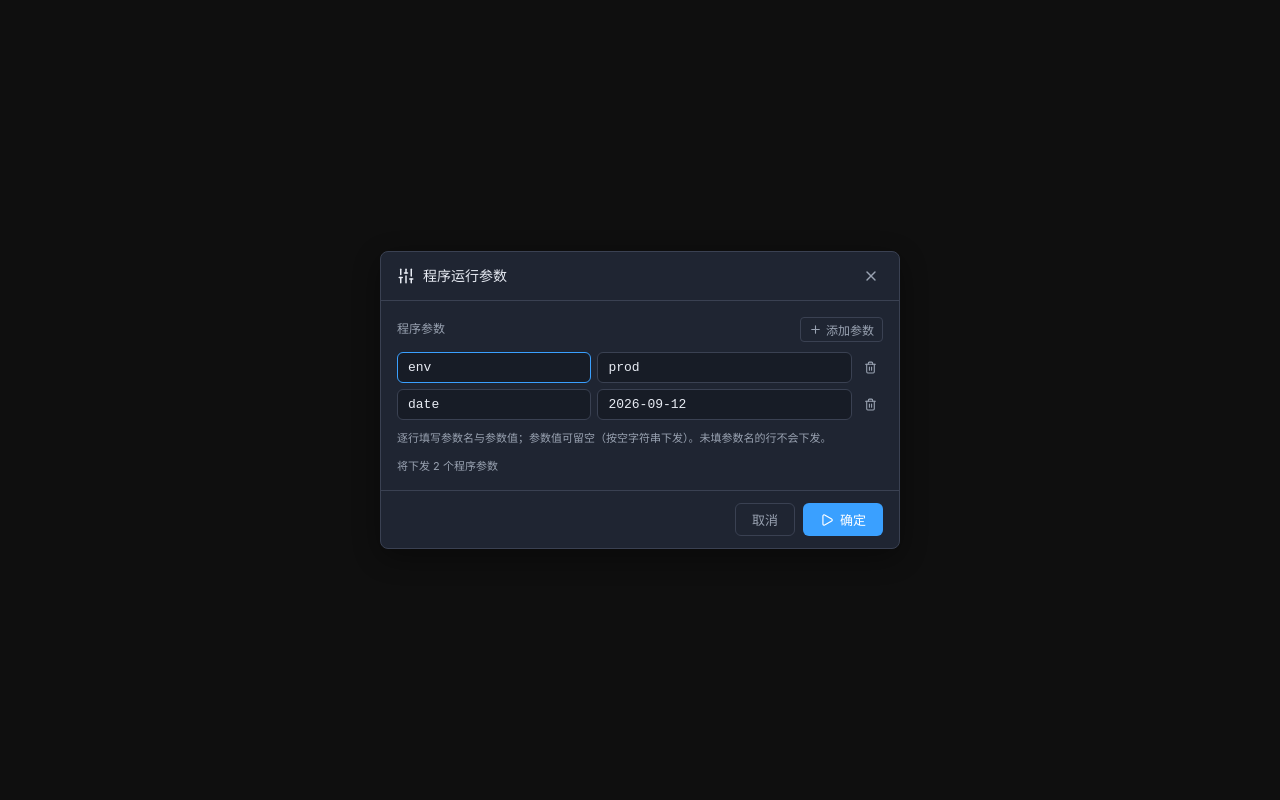
Test case: ProgramRunModal › 删除按钮移除对应行；全部删完显示空态
Click the button with test id "program-run-remove-0": [870, 368] box x1=858 y1=355 x2=883 y2=380
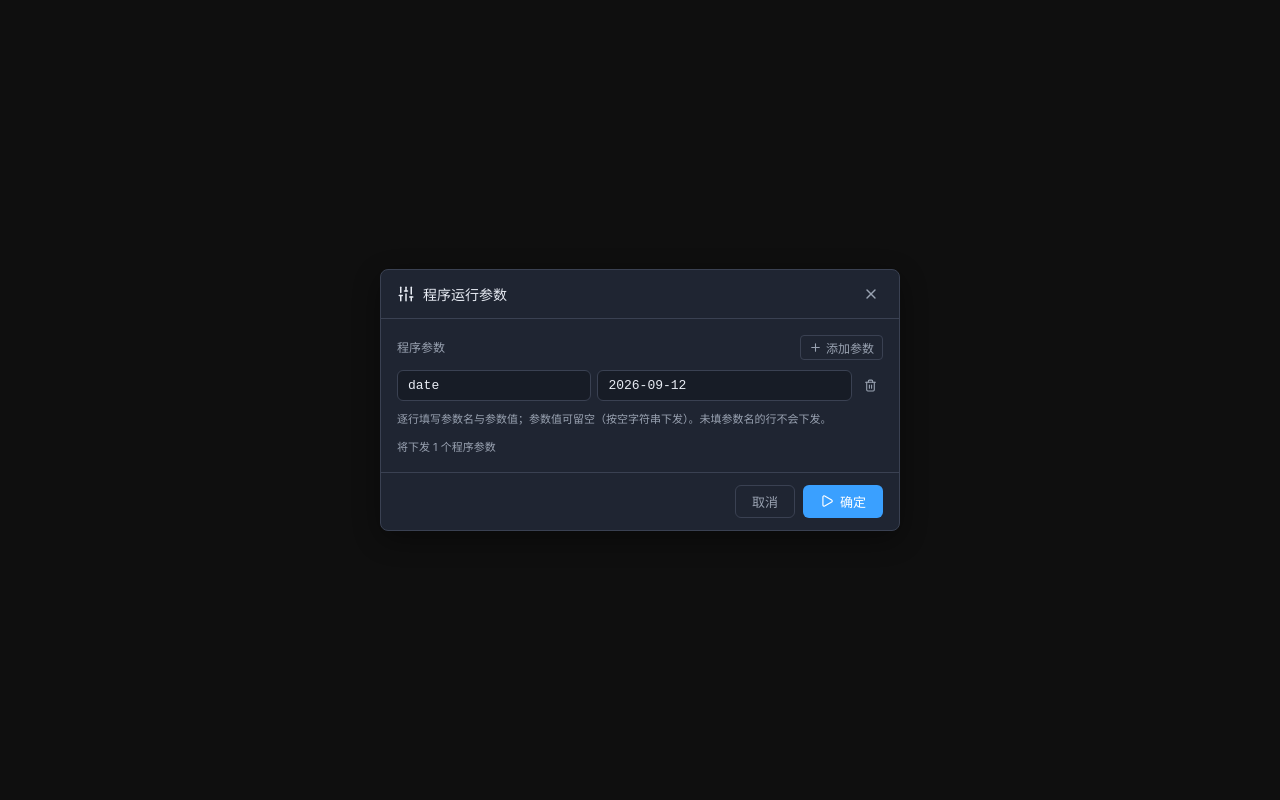
Expected: the field with test id "program-run-key-0" holds "date", x1=397 y1=370 x2=591 y2=402
Click the button with test id "program-run-remove-0": [870, 386] box x1=858 y1=374 x2=883 y2=398
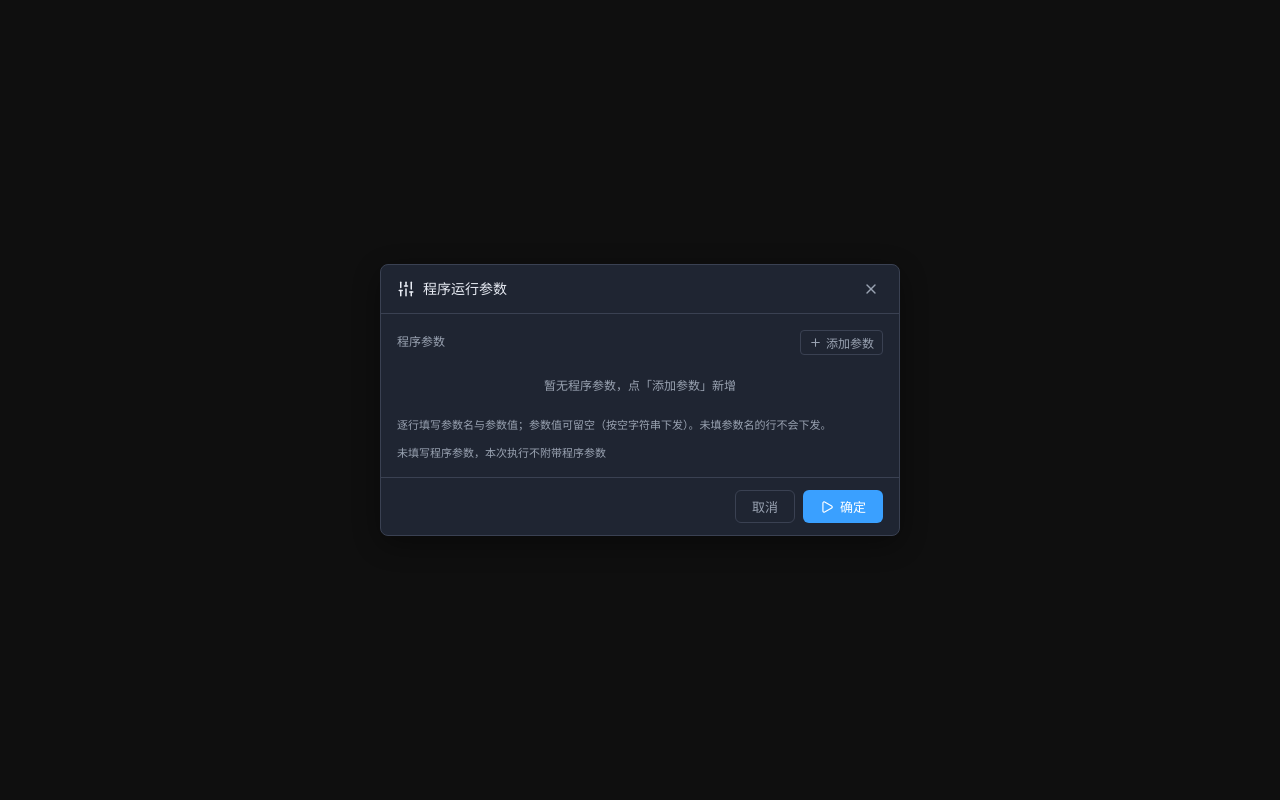
Result: the field with test id "program-run-key-0" is gone
